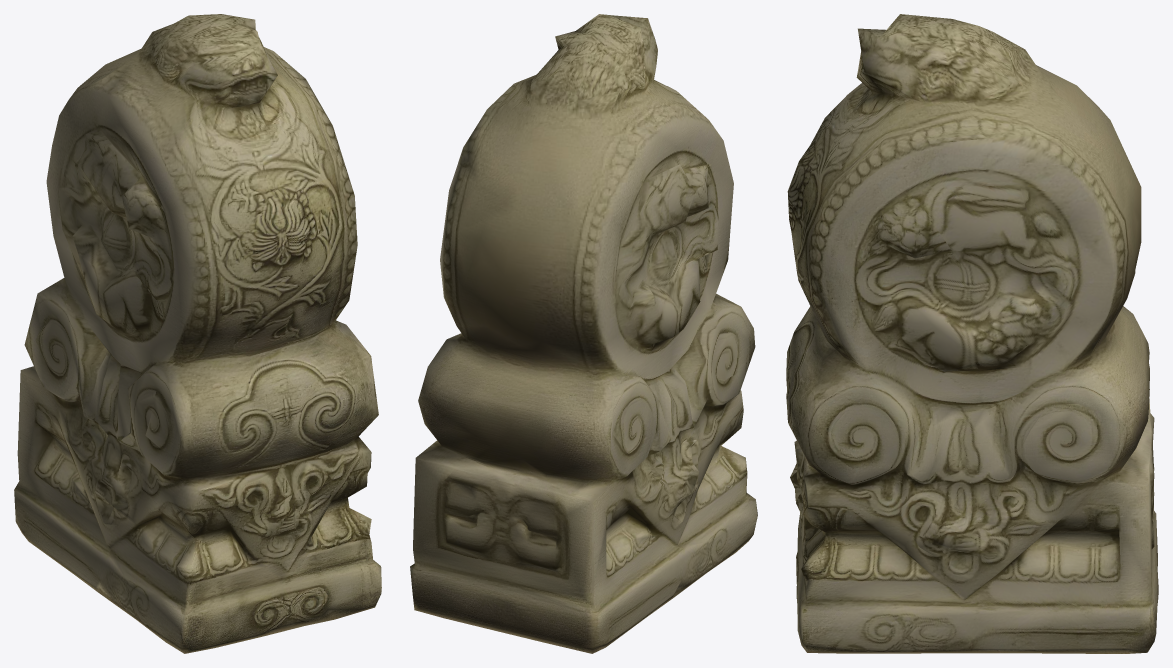
File: tripo_convert_72a83a80-aeba-4513-a30e-57a1e7ce79fe.fbx
3 renders of one model, left to right at view 1: azimuth 30°, elevation 25°; view 2: azimuth 150°, elevation 25°; view 3: azimuth 270°, elevation 25°, orthographic. The views are drawn at different scales.
Parts seen in each view (by area): view 1: tripo_node_72a83a80; view 2: tripo_node_72a83a80; view 3: tripo_node_72a83a80.
Boxes of the visible parts, <box> form: tripo_node_72a83a80: <box>14,14,381,653</box>; tripo_node_72a83a80: <box>410,14,757,653</box>; tripo_node_72a83a80: <box>786,14,1158,653</box>.
Size of the model in its own units: 0.3826 by 0.9975 by 0.579.
Materials: 1 (1 with a texture image).
